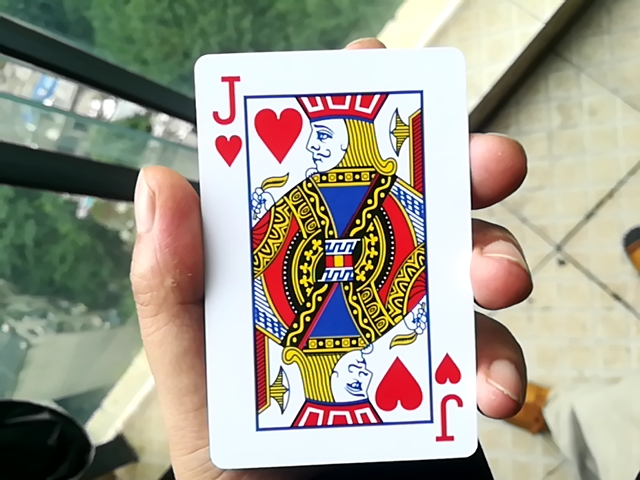hx j: (174, 51, 482, 474)
